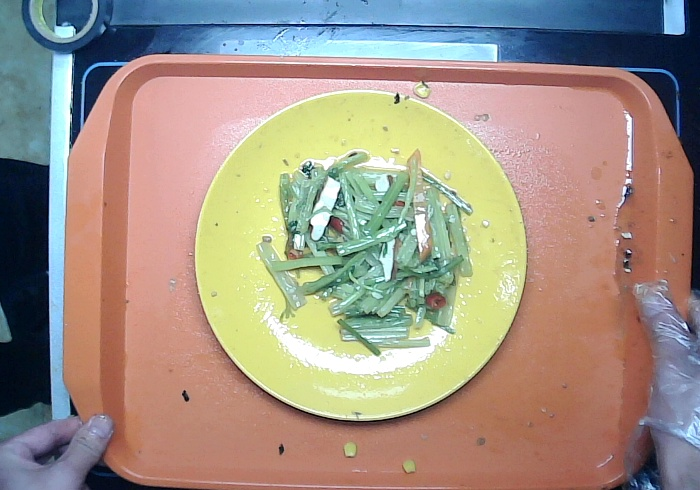HZYJPL-Huang_Se_Yuan_Pan: (192, 87, 528, 428)
